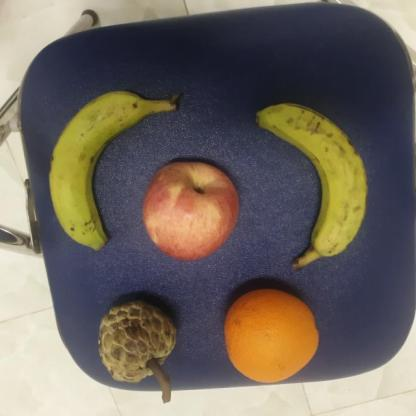annona: (94, 299, 178, 385)
apple: (138, 157, 242, 262)
banana: (43, 86, 186, 251), (254, 102, 368, 270)
orange: (224, 287, 320, 385)
